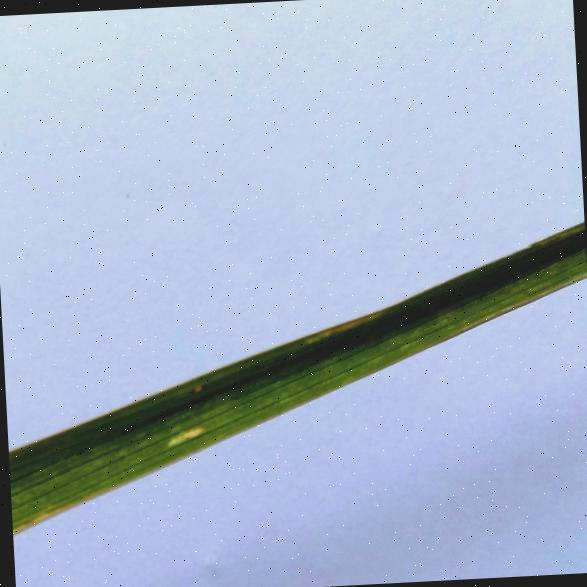Leaf_smut: (160, 422, 204, 445)
